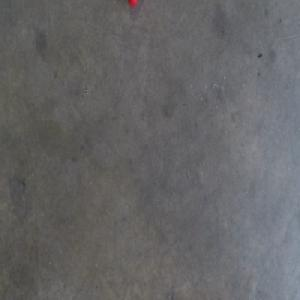Pliers: (125, 0, 137, 8)
